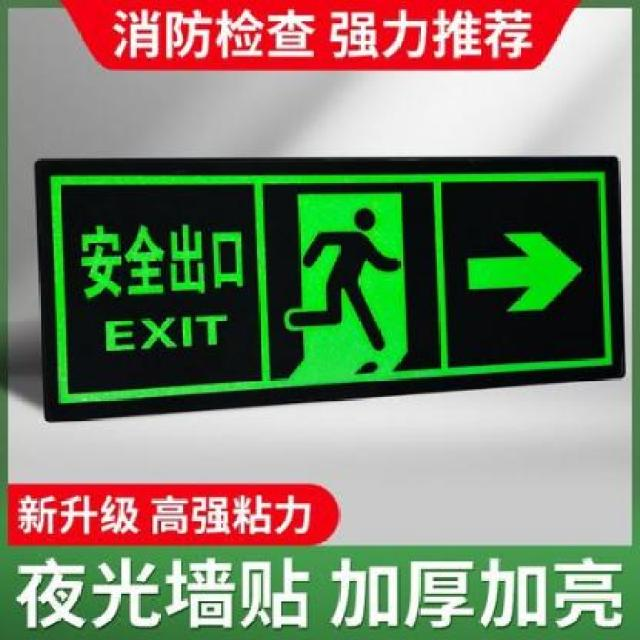exit_sign: (29, 142, 622, 410)
